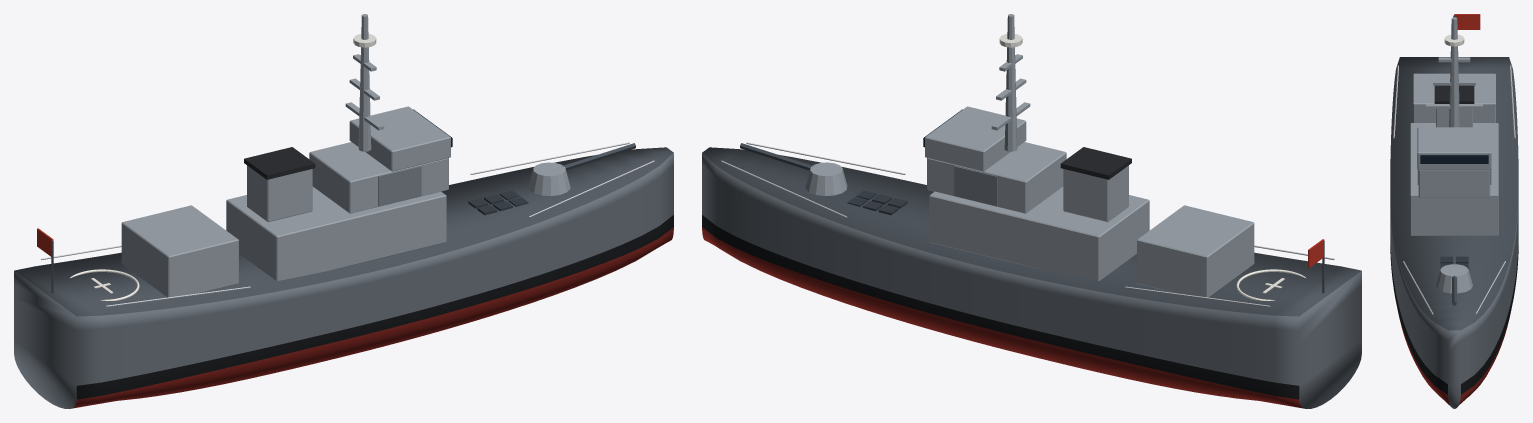
The model's file is ship_2014.glb.
The picture shows the model from 3 angles, left to right: view 1: azimuth 30°, elevation 25°; view 2: azimuth 150°, elevation 25°; view 3: azimuth 270°, elevation 25°; orthographic projection. The views are drawn at different scales.
Visible parts, largest first — view 1: ship_2014; view 2: ship_2014; view 3: ship_2014.
Boxes of the visible parts, x1,y1,x2,y2 form: ship_2014: [14, 14, 673, 408]; ship_2014: [702, 14, 1361, 408]; ship_2014: [1390, 14, 1518, 408].
Bounding box in the file's own units: 4.4 × 2.17 × 0.8999.
